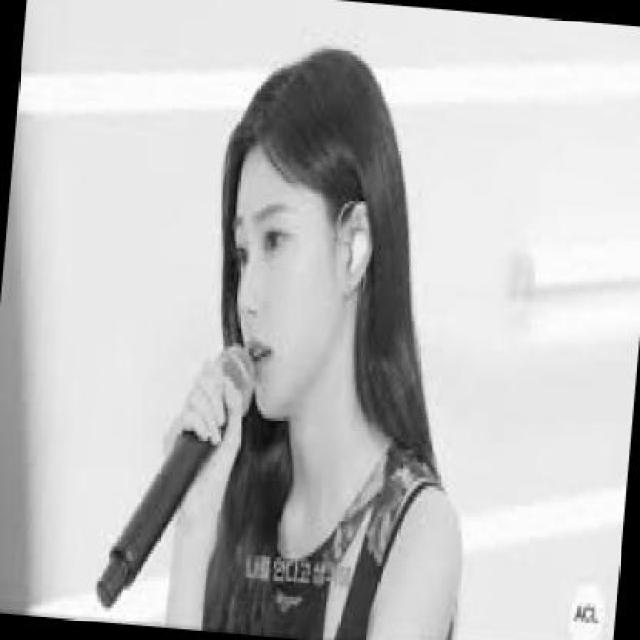earphone: (334, 221, 381, 282)
